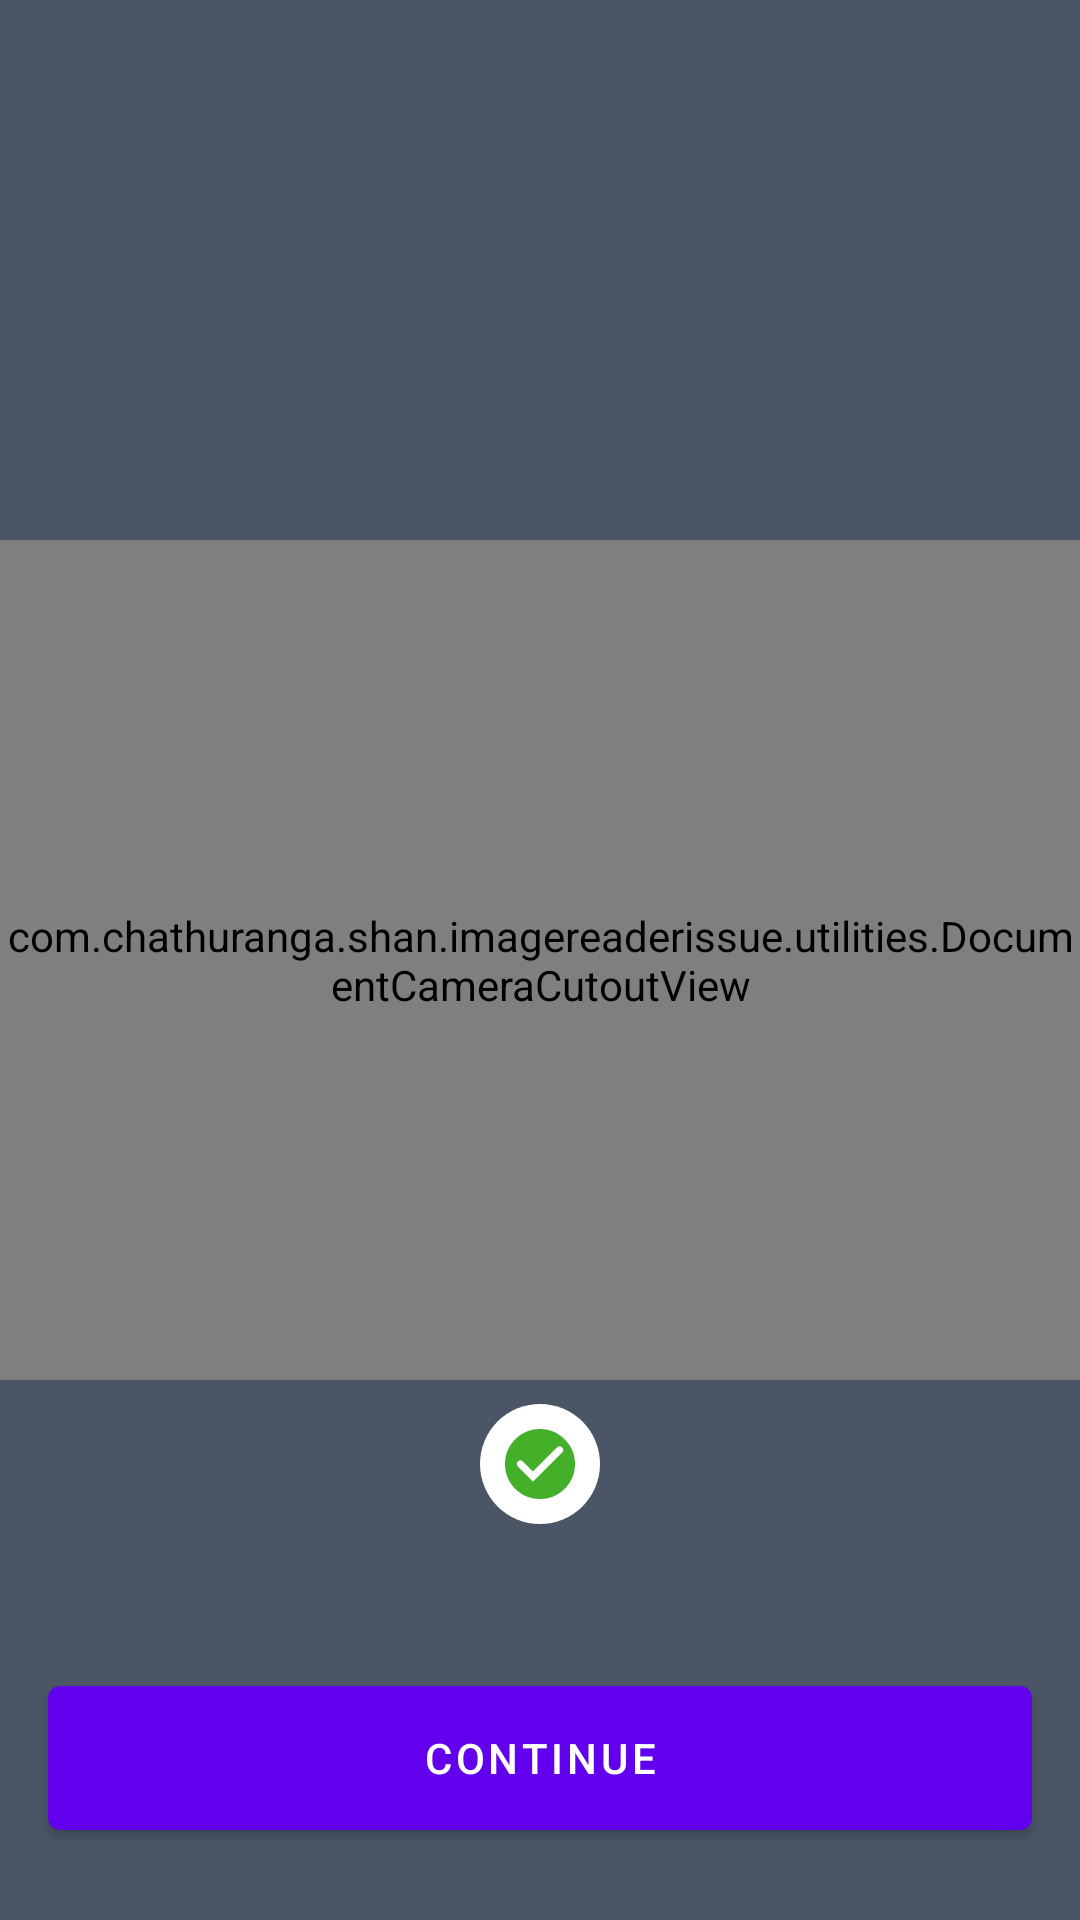

Icon bounding boxes for this 1080 x 1920 phone screenshot, format [x1, y1, x2, y2]:
valid fab: [480, 1404, 600, 1524]
